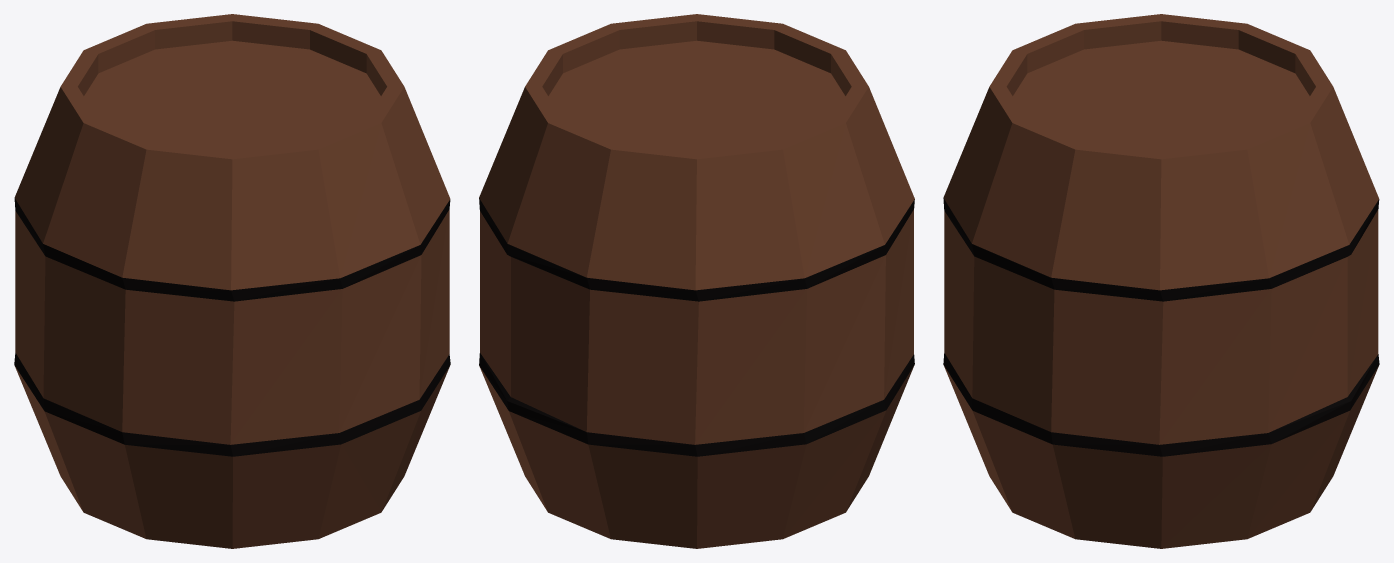
The model's file is tonneau.fbx.
The picture shows the model from 3 angles, left to right: view 1: azimuth 30°, elevation 25°; view 2: azimuth 150°, elevation 25°; view 3: azimuth 270°, elevation 25°; orthographic projection.
Visible parts, largest first — view 1: Cylinder; view 2: Cylinder; view 3: Cylinder.
Part boxes in pixels (x1,y1,x2,y2): Cylinder: [14, 14, 450, 548]; Cylinder: [479, 14, 914, 548]; Cylinder: [943, 14, 1379, 548].
Bounding box in the file's own units: 203 × 200 × 203.
